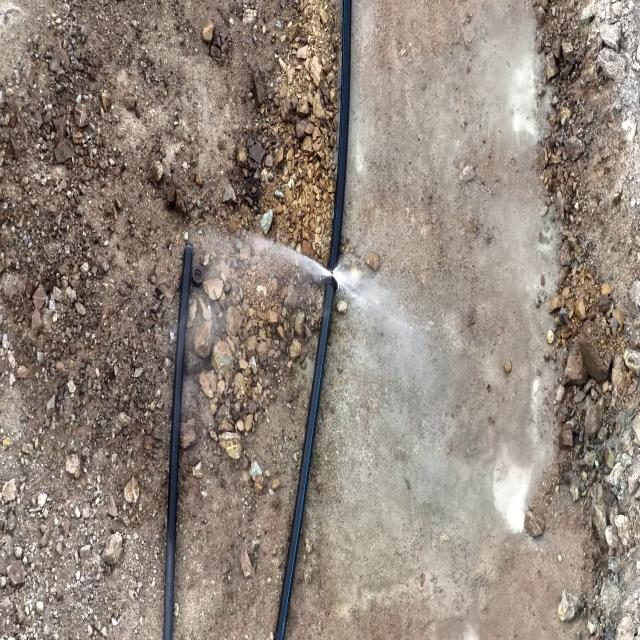leak: (198, 226, 390, 321)
